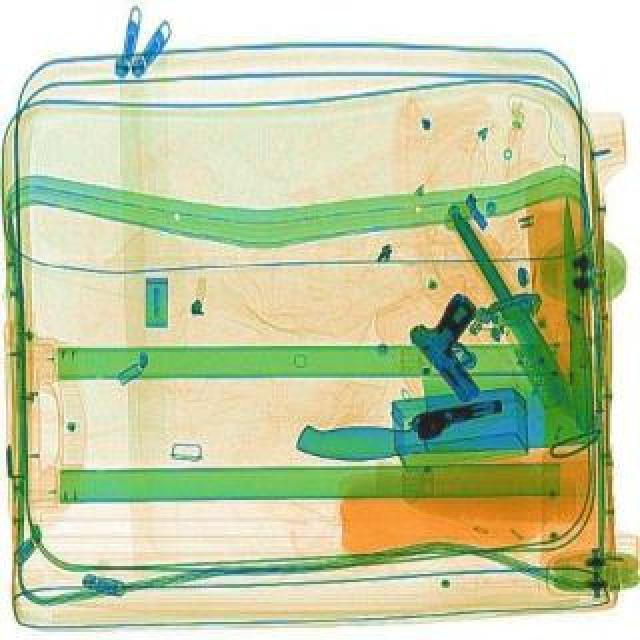gun: (400, 286, 524, 402), (406, 394, 506, 440)
knife: (436, 198, 588, 426), (292, 370, 596, 462), (550, 196, 598, 426)
